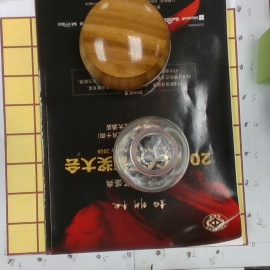bottle: (113, 116, 188, 194)
chess: (80, 1, 170, 90)
